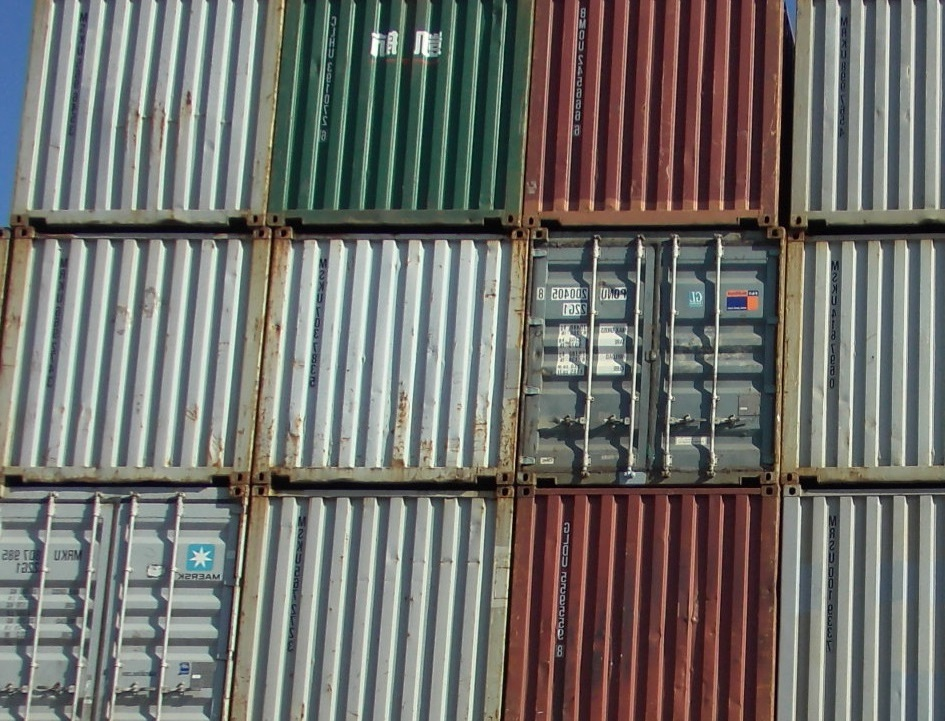container_door: (524, 227, 779, 484), (1, 484, 238, 721)
container_no_door: (249, 231, 527, 481), (1, 229, 257, 481), (515, 481, 781, 721), (248, 481, 514, 721), (14, 1, 281, 224), (271, 1, 523, 227), (525, 1, 777, 227), (783, 232, 945, 483), (782, 481, 945, 721), (790, 1, 945, 228)
